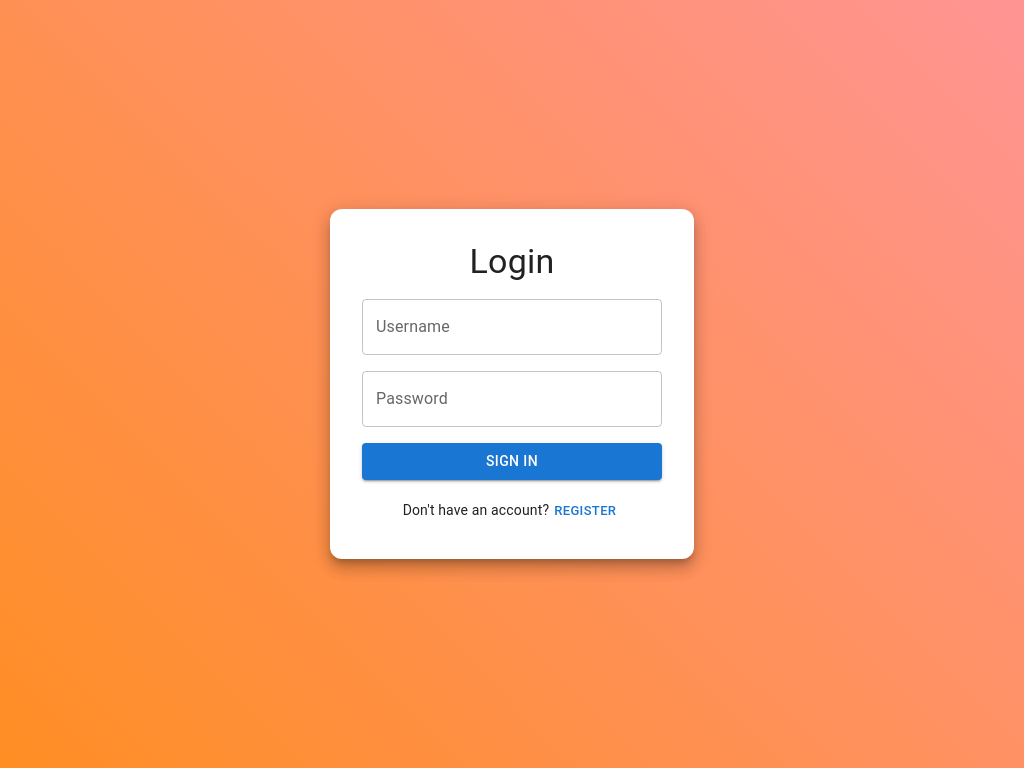
Test case: Chat Application Flow › allows server selection and displays channels
The width and height of the screenshot is (1024, 768).
Type "testuser" into the field labelled "Username". click: point(512, 327)
box: [362,299,662,355]
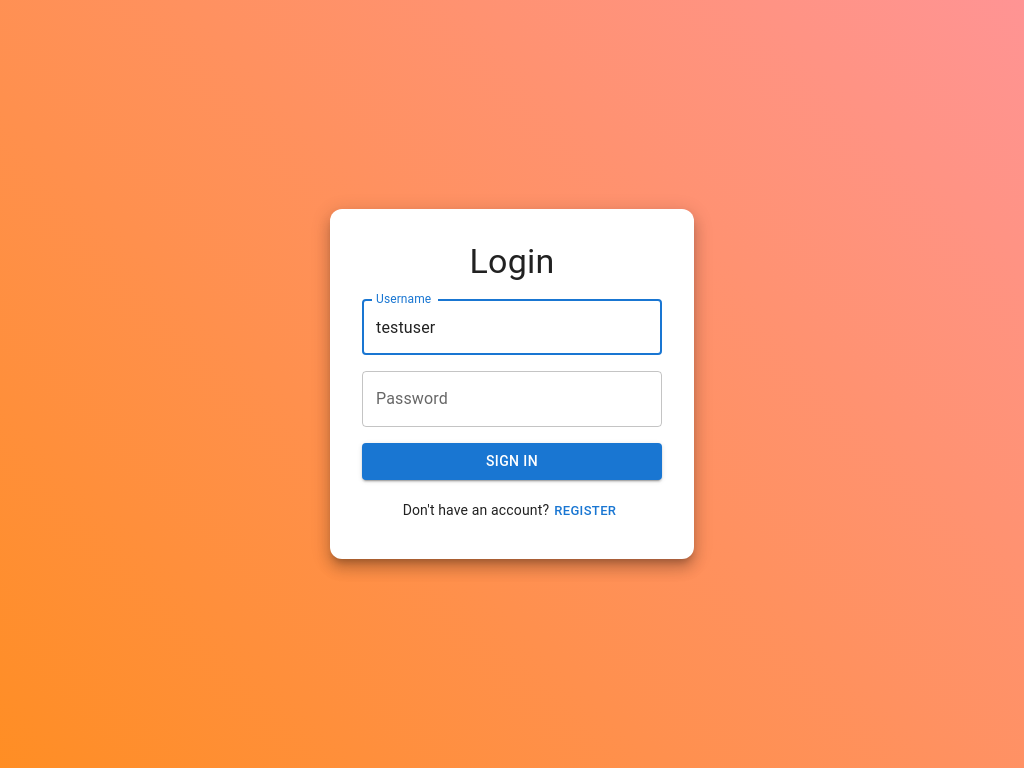
Type "password123" into the password field labelled "Password". click: point(512, 399)
box: [362,371,662,427]
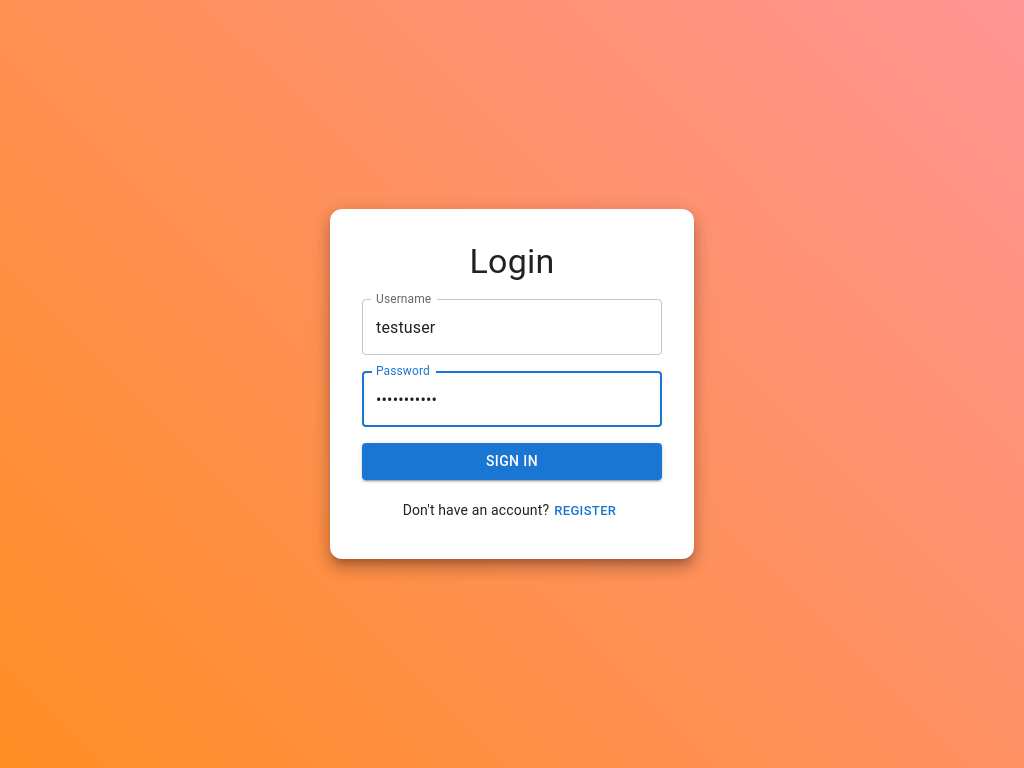
Click the button "Sign In". click: point(512, 462)
box: [362,443,662,480]
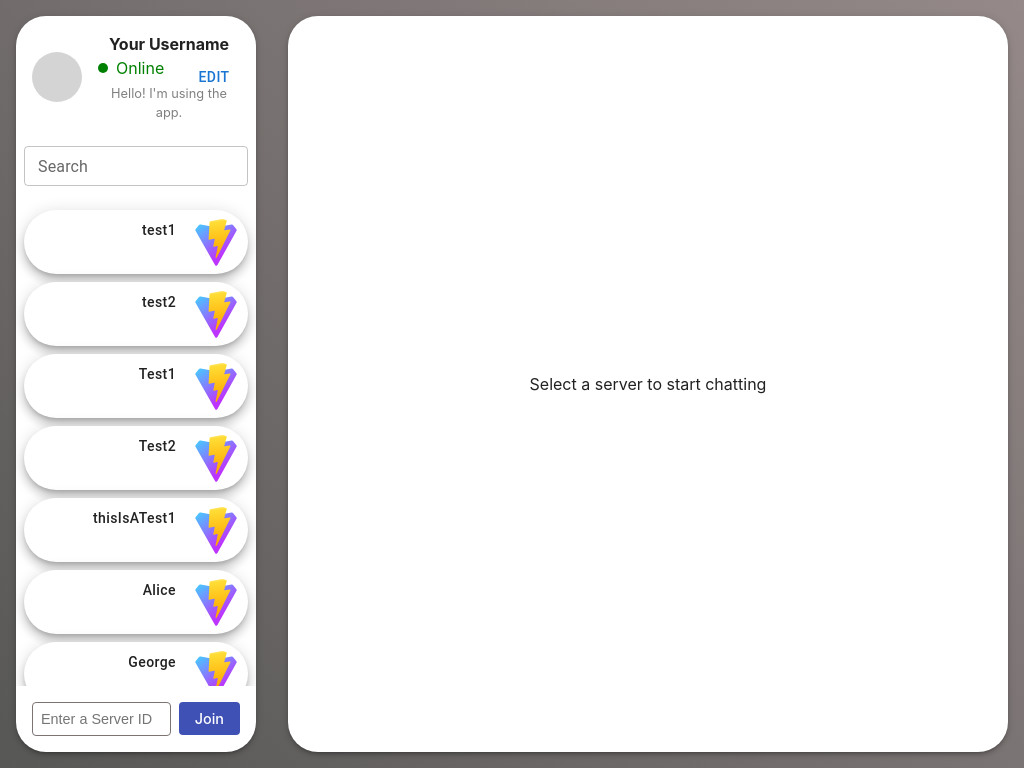
expect the element with class "ColorBox" is shown: met
expect the button "test1" is shown: met
Click the button "test1". click: point(136, 242)
box: [24,210,248,274]
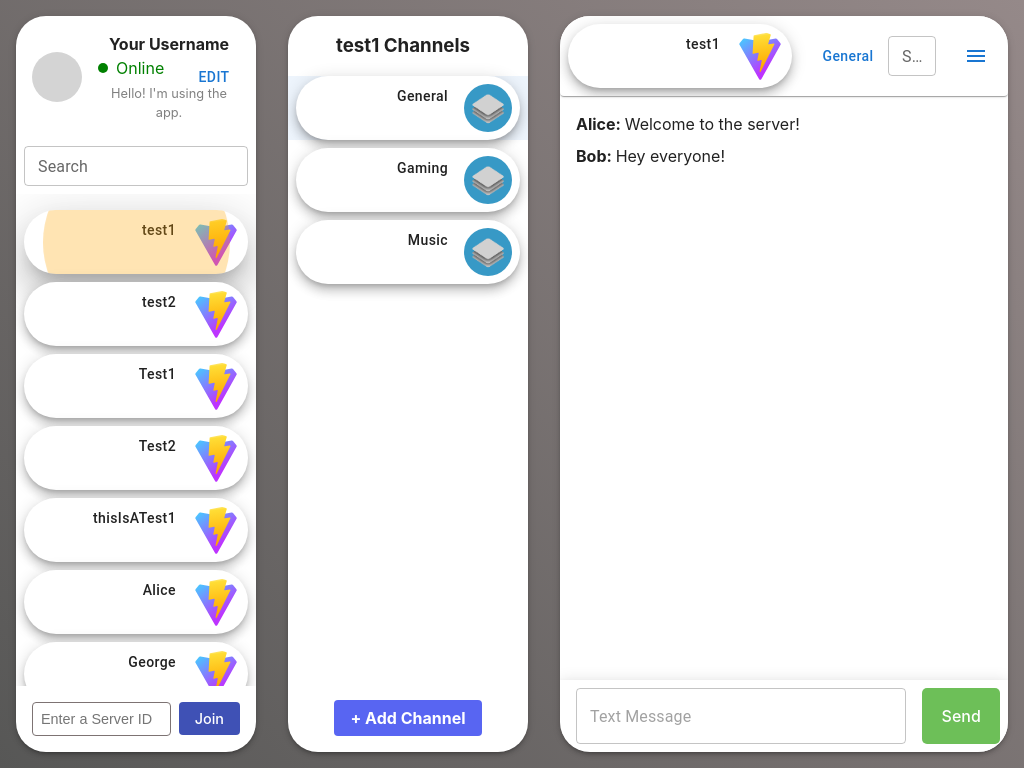
expect the heading "test1 Channels" is shown: met, box [336,34,470,57]
expect the button "General" below "Channels" is shown: met, box [296,76,520,140]
